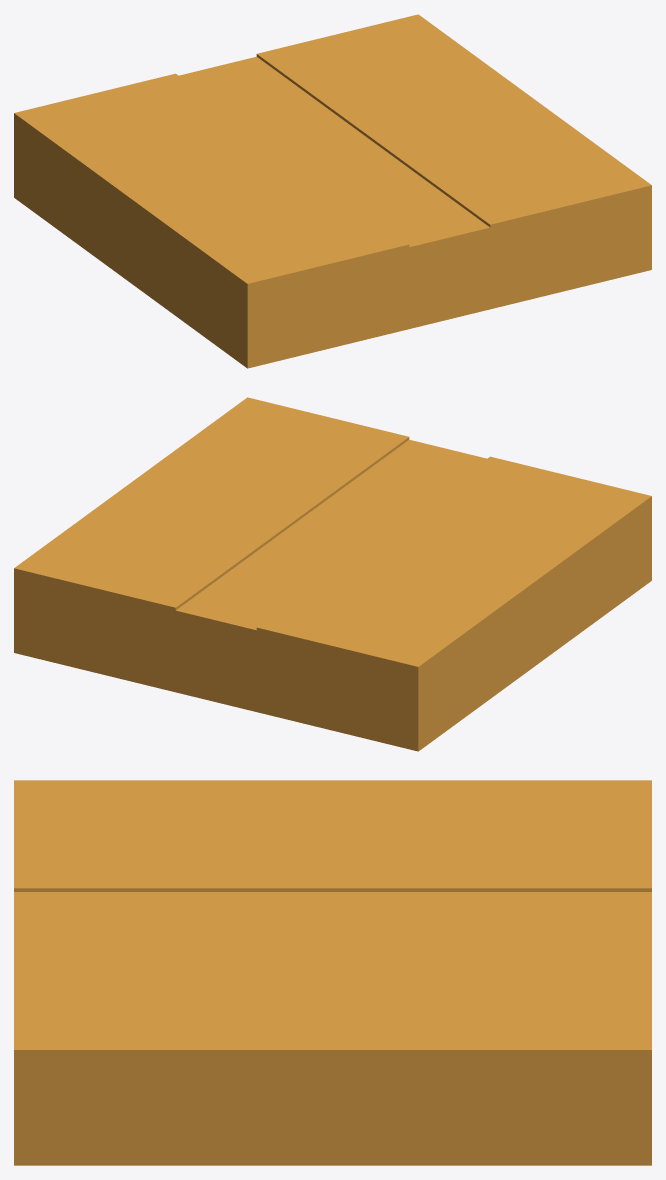
File: tile-road-straight.glb
The picture shows the model from 3 angles, top to bottom: view 1: azimuth 30°, elevation 25°; view 2: azimuth 150°, elevation 25°; view 3: azimuth 270°, elevation 25°; orthographic projection. The views are drawn at different scales.
Visible parts, largest first — view 1: tile-road-straight; view 2: tile-road-straight; view 3: tile-road-straight.
Boxes of the visible parts, bbox=[...] form: tile-road-straight: bbox=[14, 14, 651, 368]; tile-road-straight: bbox=[14, 397, 651, 751]; tile-road-straight: bbox=[14, 780, 651, 1165].
Size of the model in its own units: 30 by 6 by 30.
